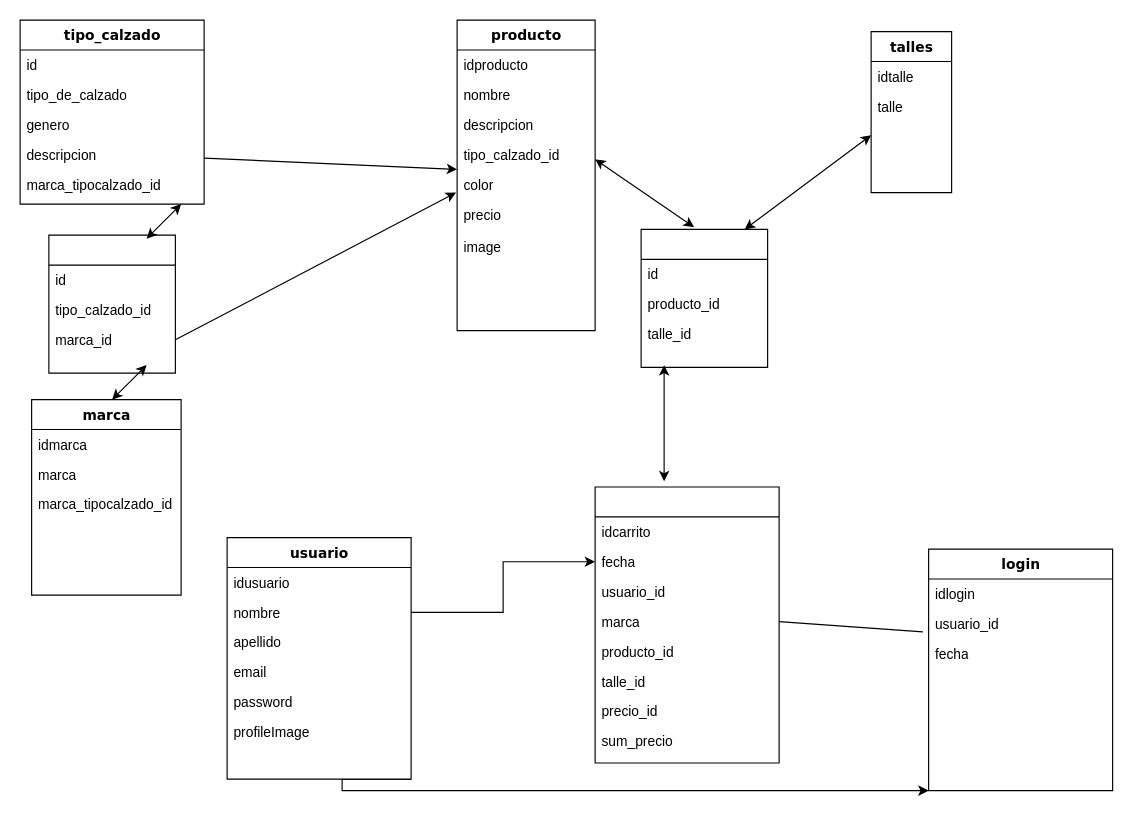
This 1133x820 diagram has some shape labels left out. Here are the shapes that lost their labels. From the top down, the box of each, then its label:
(48, 234, 175, 373): marca_tipocalzado
(640, 228, 768, 367): producto_talle
(594, 486, 779, 763): carrito_de_compras
